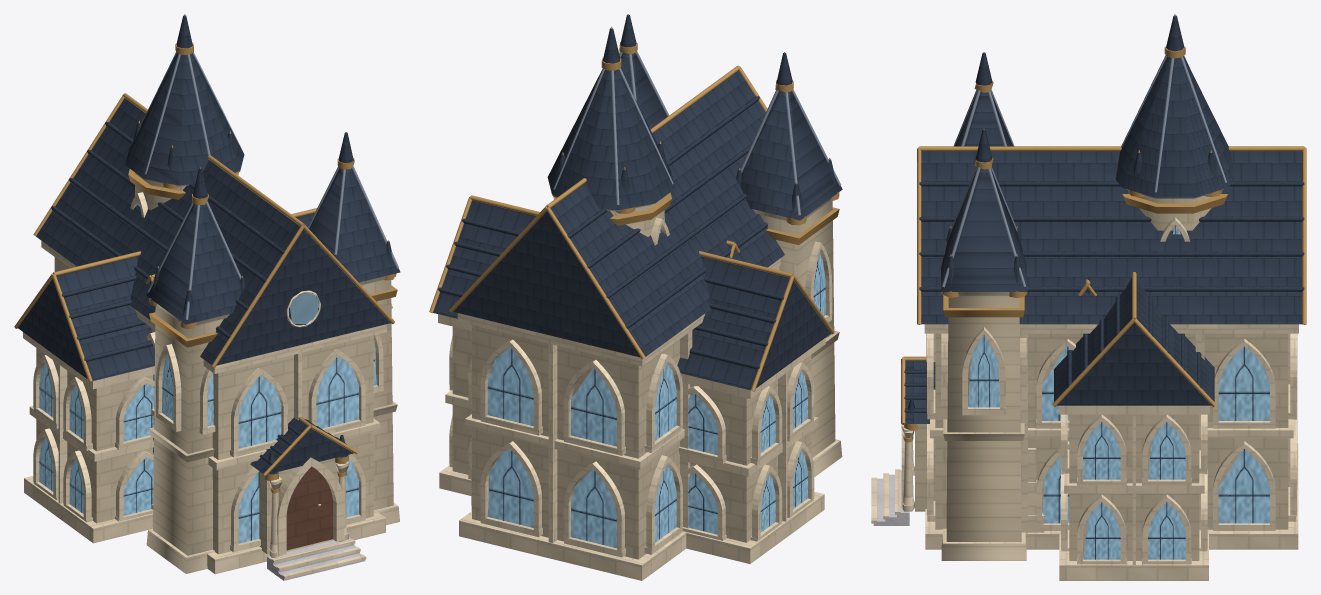
File: angelic-cathedral-far.glb
The picture shows the model from 3 angles, left to right: view 1: azimuth 30°, elevation 25°; view 2: azimuth 150°, elevation 25°; view 3: azimuth 270°, elevation 25°; orthographic projection. The views are drawn at different scales.
Bounding box in the file's own units: 6.75 × 9.65 × 7.76.
Materials: 10 (10 with a texture image).
